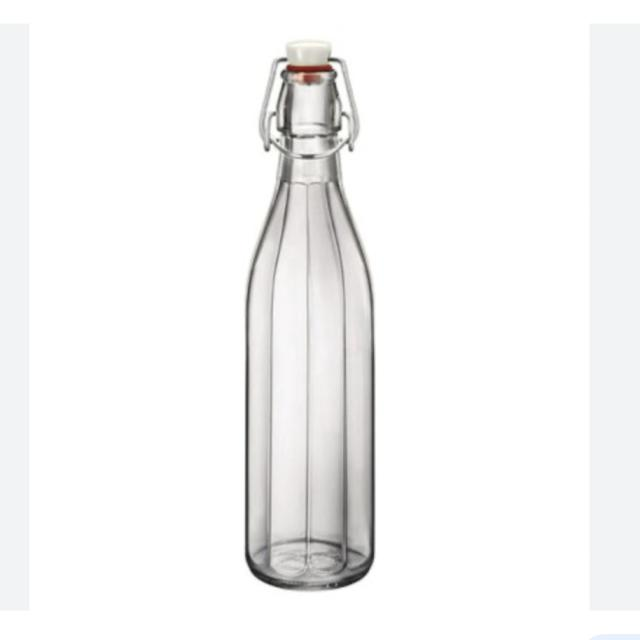recyclable: (224, 58, 385, 612)
